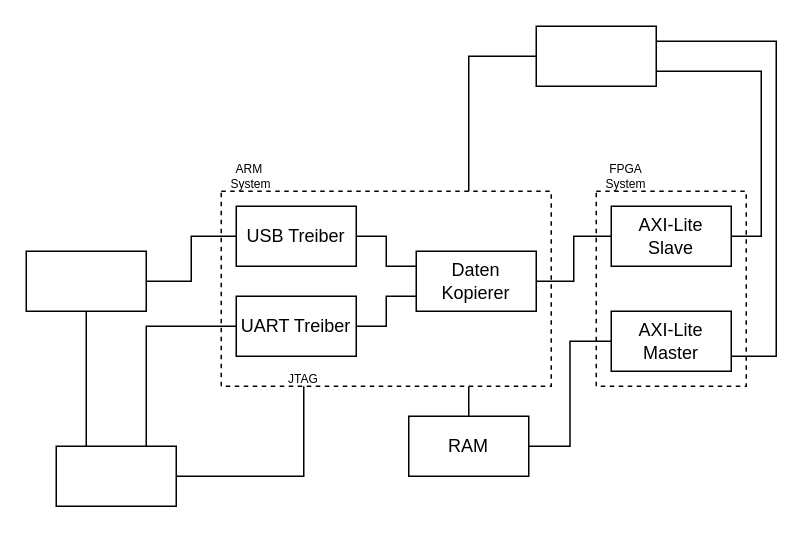
Some shapes in this 804 by 533 pixel diagram are drawn without their labels. The box of each missing label's shape, as (x1, y1, x2, y2) in pixels:
LEDs & Schalter: (535, 25, 656, 86)
PC: (55, 445, 176, 506)
USB HW: (25, 250, 146, 311)
